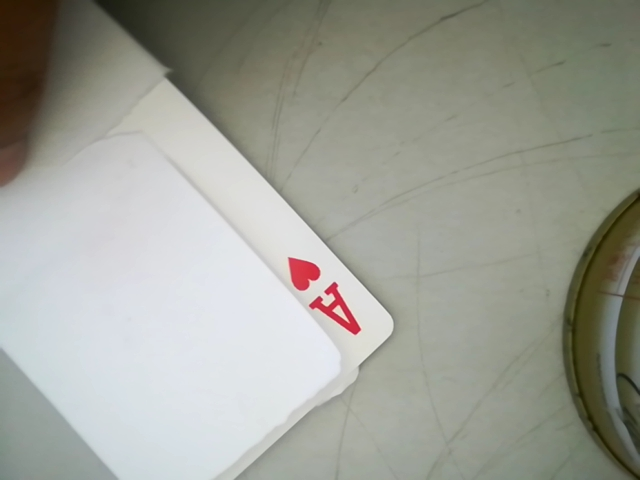hx a: (281, 249, 370, 348)
